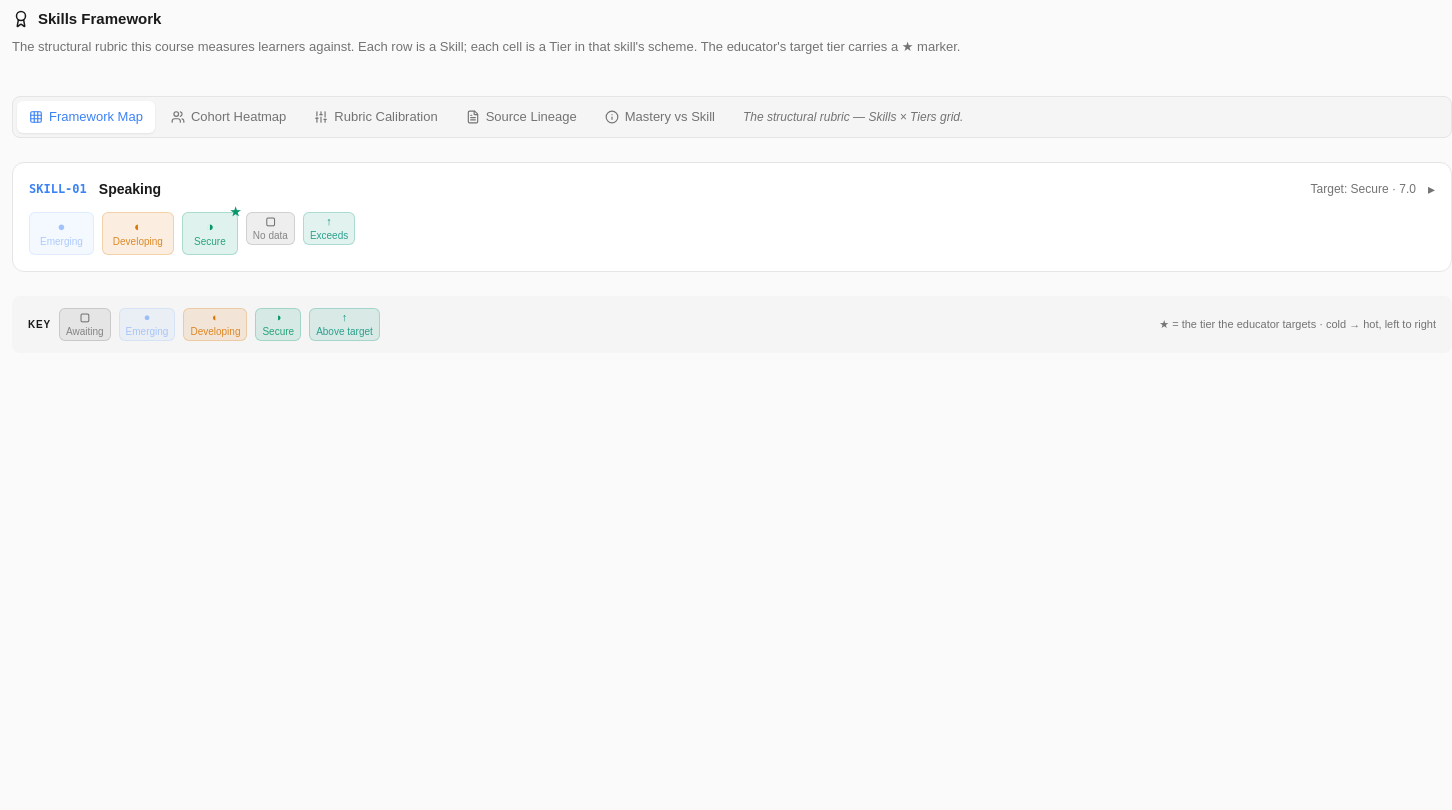
it: <CourseSkillsTab> cohort cell drill › clicking a developing cell opens the drill panel with learners + evidence
Expected: the text "Framework Map" is shown, [49,107,143,126]
Step 1. Click the tab "Cohort Heatmap" → (229, 117), box [159,101,298,132]
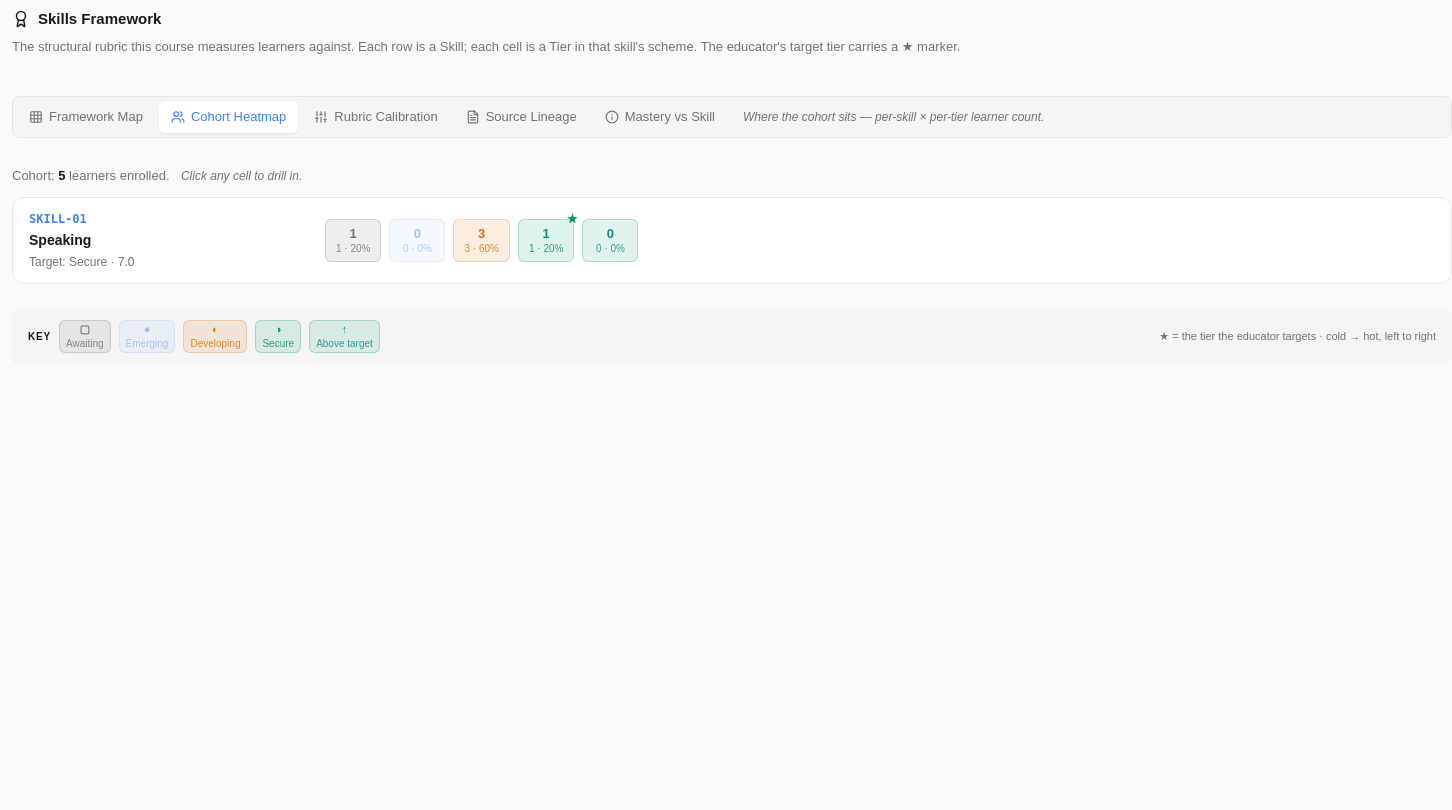
Expected: the text "Click any cell to drill in." is shown, [178,168,302,182]
Expected: the button "3 3 · 60%" is shown
Step 2. Click the button "3 3 · 60%" → (482, 240), box [454,219,510,262]
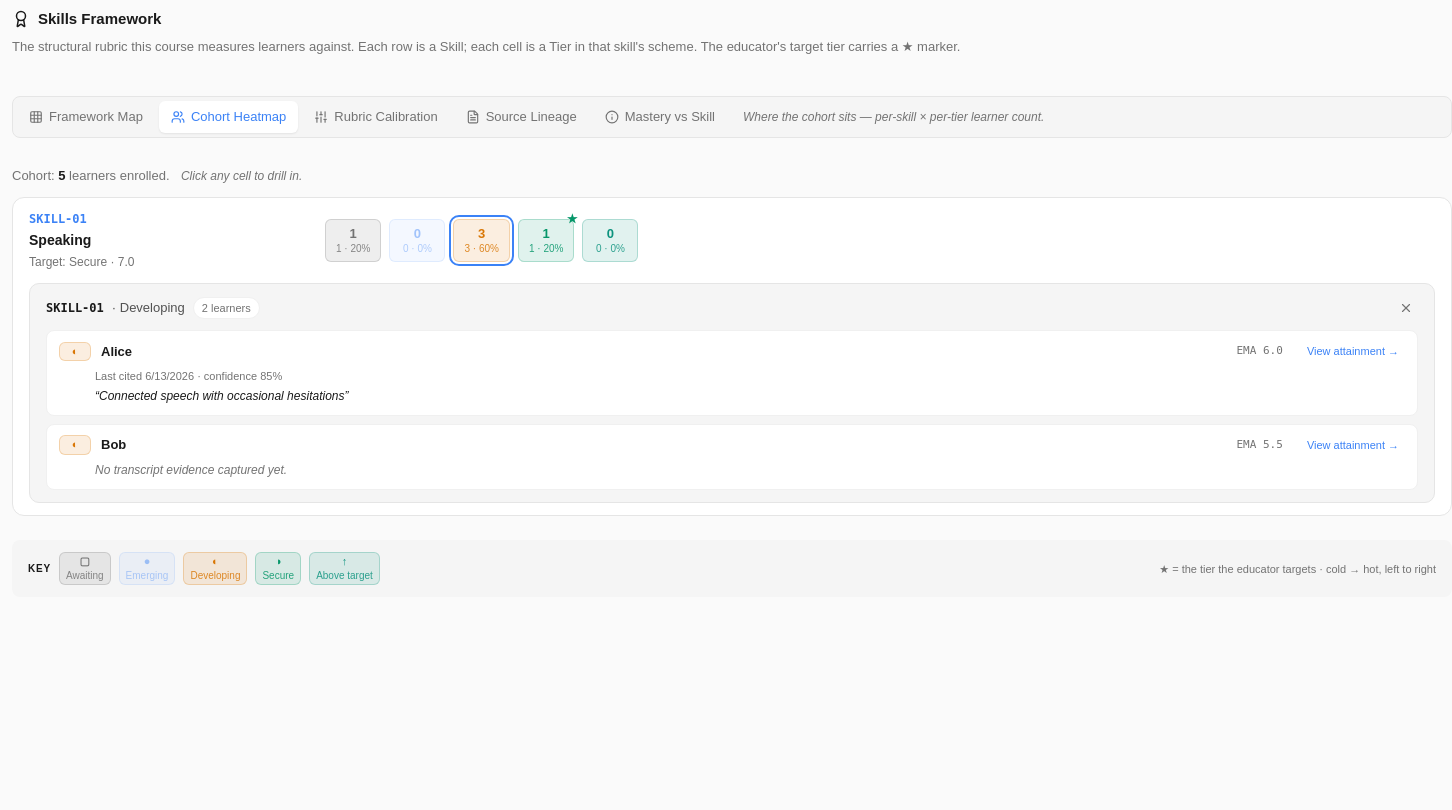
Expected: the text "2 learners" is shown, [193,297,260,319]
Expected: the text "Alice" is shown, [101,344,132,358]
Expected: the text "Bob" is shown, [101,437,126,452]
